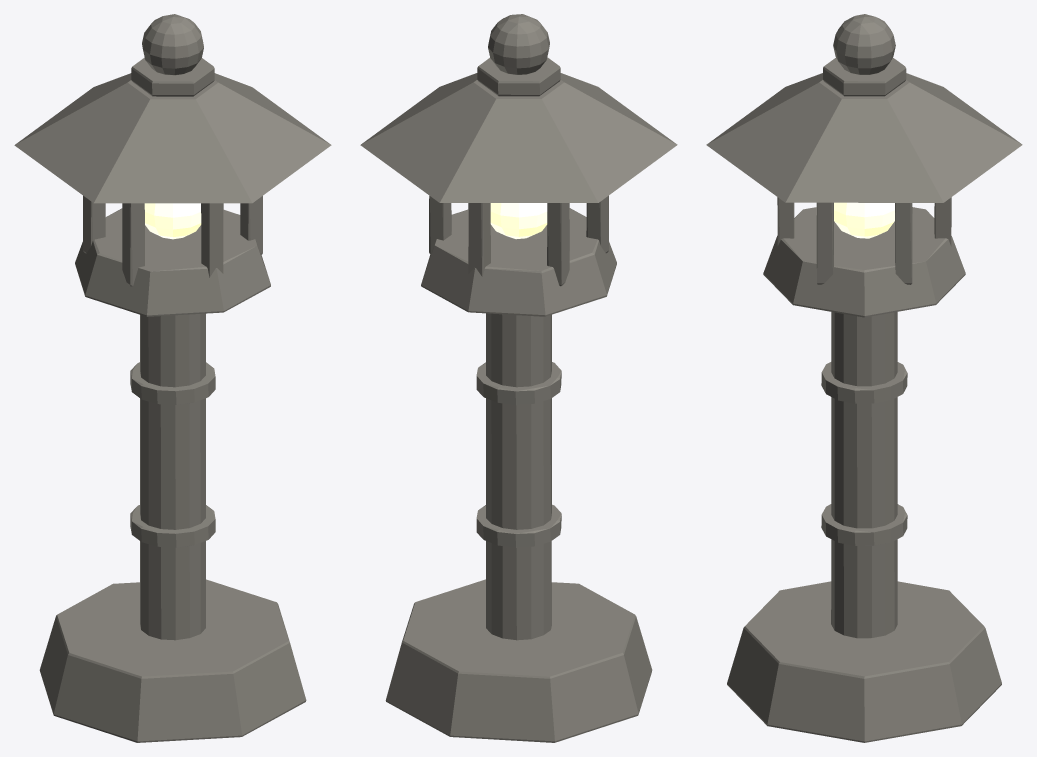
Rendered from prop_lantern_lod1.glb.
The picture shows the model from 3 angles, left to right: view 1: azimuth 30°, elevation 25°; view 2: azimuth 150°, elevation 25°; view 3: azimuth 270°, elevation 25°; orthographic projection.
Parts seen in each view (by area): view 1: prop_lantern_lod1; view 2: prop_lantern_lod1; view 3: prop_lantern_lod1.
Boxes of the visible parts, x1,y1,x2,y2 form: prop_lantern_lod1: [14, 14, 331, 742]; prop_lantern_lod1: [360, 14, 677, 742]; prop_lantern_lod1: [706, 14, 1022, 742].
Size of the model in its own units: 0.4559 by 1.22 by 0.5244.
